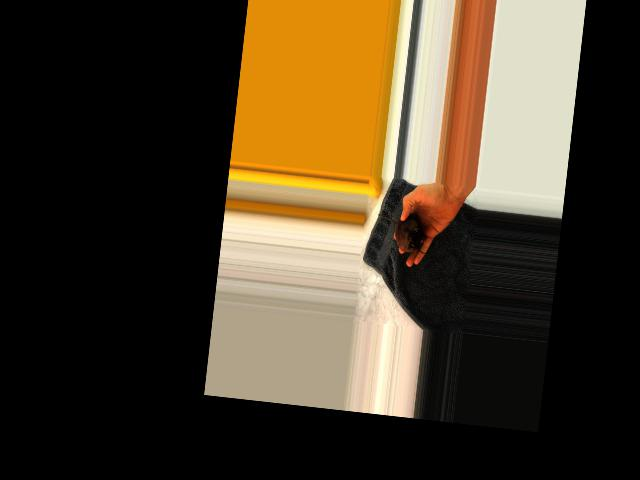beet: (374, 210, 427, 253)
